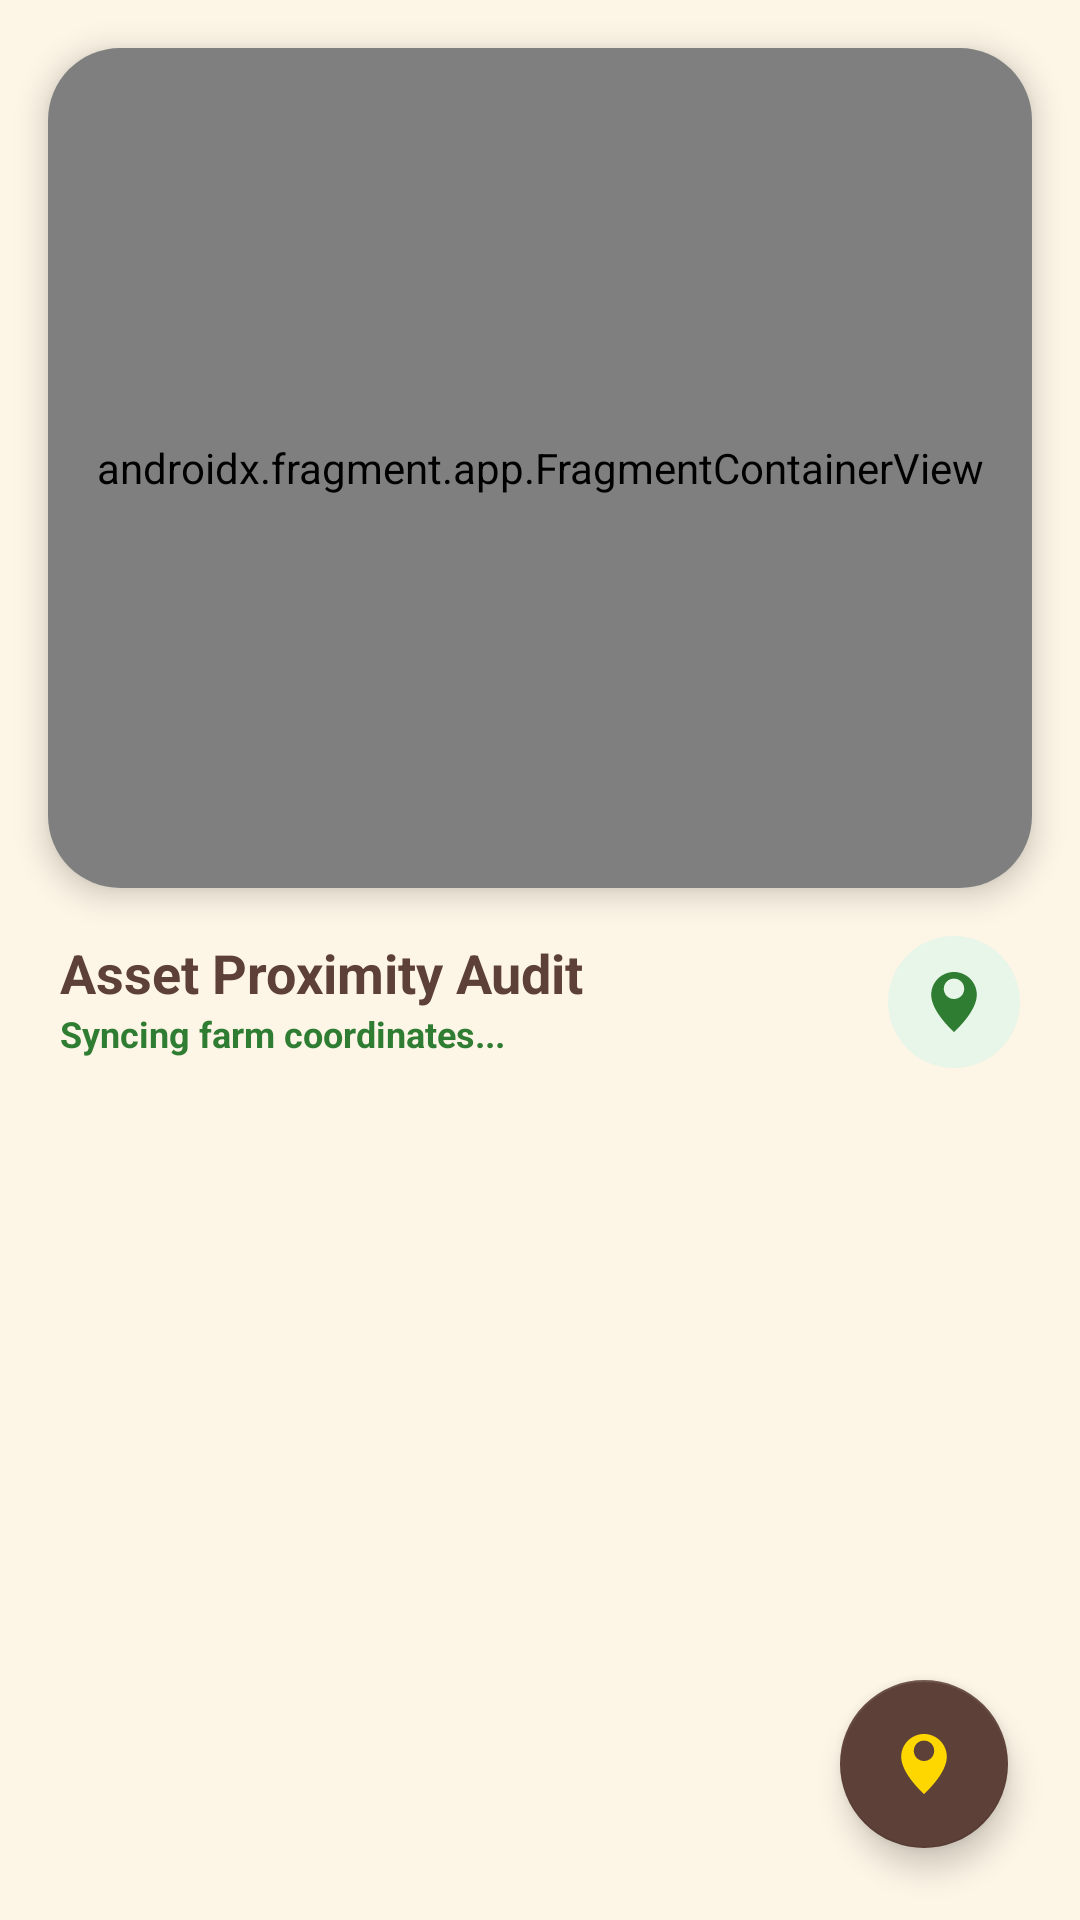

Locate icon controls on the screen. Image size 1080×1920, boxes as [x1, y1, x2, y2].
Location Sync: [931, 972, 977, 1032]
